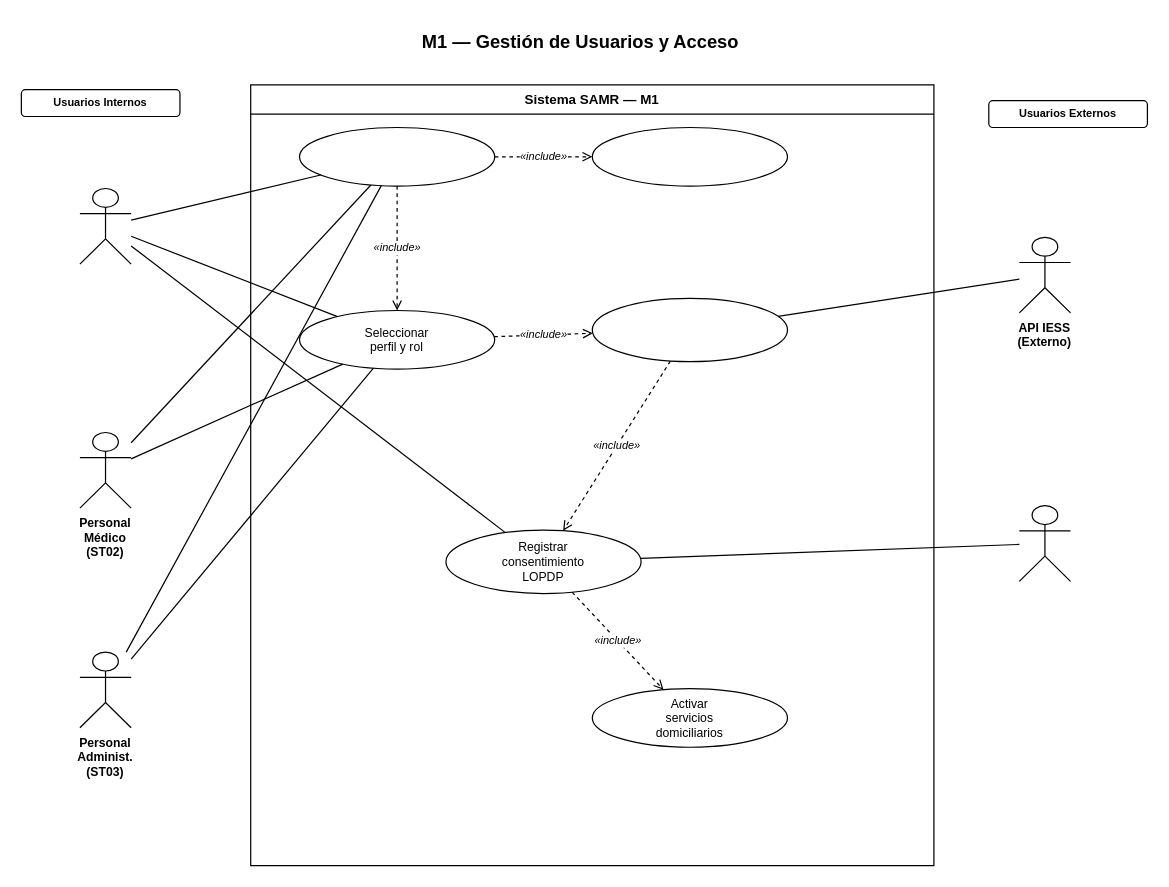
Some shapes in this 1169 by 887 pixel diagram are drawn without their labels. The shapes that lost their labels are listed below. From the top down, each one's centre as x and y in pixels, then its label:
[396,156]: Registrarse en el sistema
[689,156]: Iniciar sesión con MFA
[105,225]: Paciente (ST01)
[689,329]: Validar elegibilidad IESS
[1044,542]: DPO (ST06)
